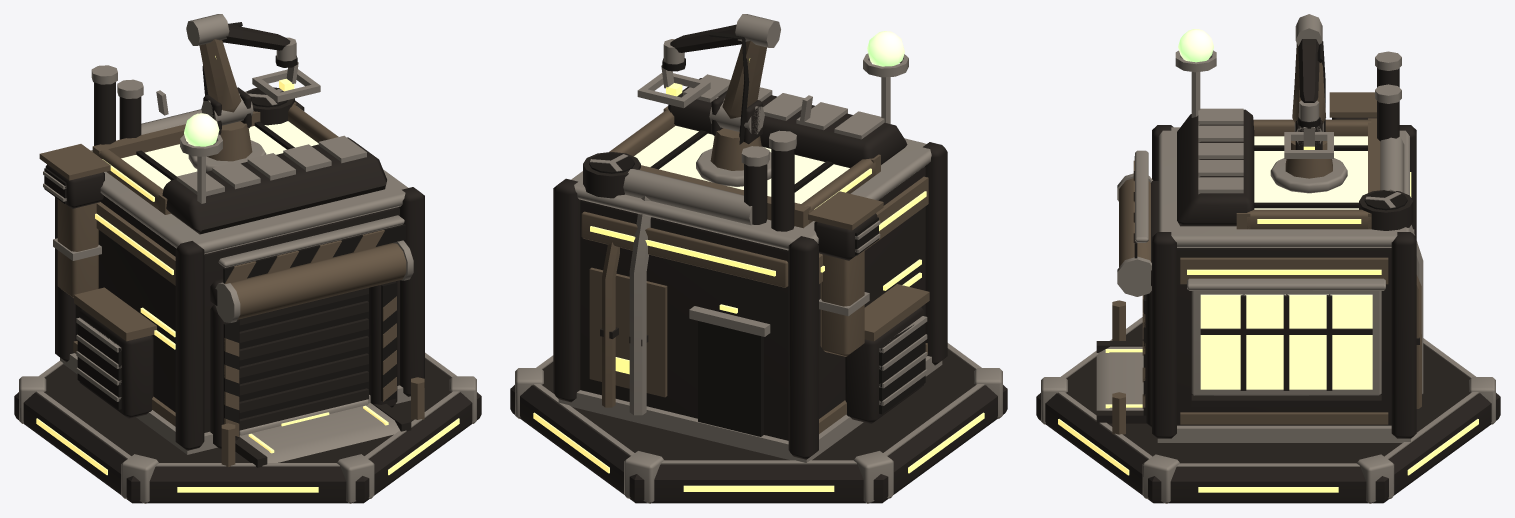
File: fac_fab.glb
3 views of the same model, side by side, from view 1: azimuth 30°, elevation 25°; view 2: azimuth 150°, elevation 25°; view 3: azimuth 270°, elevation 25° (orthographic). The views are drawn at different scales.
Visible parts, largest first — view 1: base, roof, spin, lamp; view 2: base, roof, spin, lamp; view 3: base, roof, spin, lamp.
Boxes of the visible parts, left/top/right/bottom form: base: left=14, top=100, right=481, bottom=503; roof: left=91, top=65, right=386, bottom=234; spin: left=156, top=14, right=320, bottom=171; lamp: left=180, top=113, right=222, bottom=156; base: left=510, top=112, right=1007, bottom=503; roof: left=583, top=74, right=907, bottom=231; spin: left=637, top=14, right=812, bottom=186; lamp: left=863, top=31, right=908, bottom=77; base: left=1036, top=92, right=1500, bottom=503; roof: left=1177, top=51, right=1413, bottom=230; spin: left=1270, top=14, right=1347, bottom=193; lamp: left=1175, top=29, right=1216, bottom=72.
Bounding box in the file's own units: 1.8 × 1.89 × 2.05.
